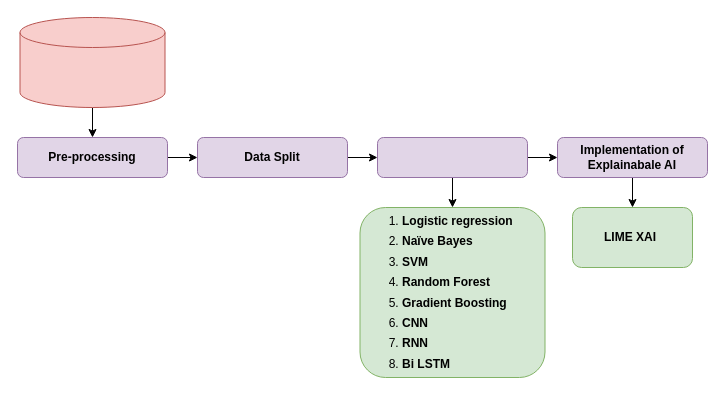
Some shapes in this 725 by 403 pixel diagram are drawn without their labels. Here are the shapes that lost their labels. From the top down, the box of each, then its label:
(19, 16, 165, 108): Dataset
(376, 136, 528, 178): Classification Models
